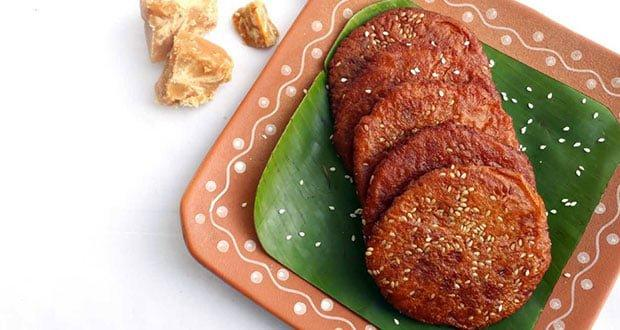Naan: (313, 8, 525, 282)
